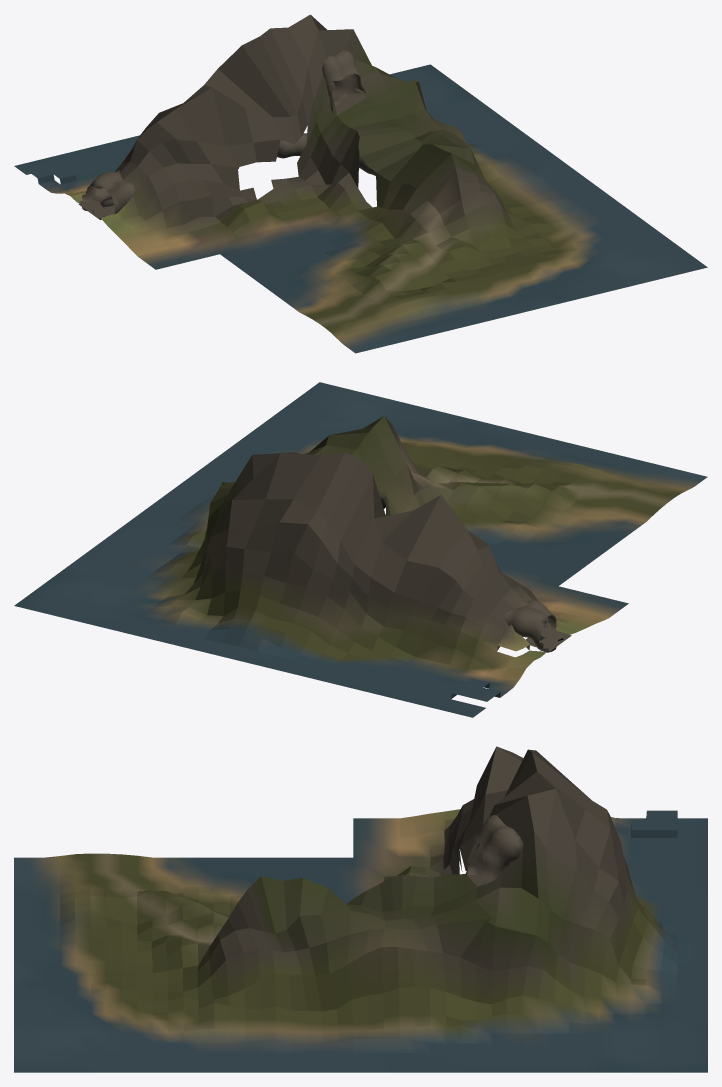
Rendered from MAPA ESCALA Seccion 7 y 8.glb.
The picture shows the model from 3 angles, top to bottom: view 1: azimuth 30°, elevation 25°; view 2: azimuth 150°, elevation 25°; view 3: azimuth 270°, elevation 25°; orthographic projection. The views are drawn at different scales.
Visible parts, largest first — view 1: MAPA 7 Y 8, Mball.074; view 2: MAPA 7 Y 8, Mball.074; view 3: MAPA 7 Y 8, Mball.074.
Part boxes in pixels (left/top/right/bottom): MAPA 7 Y 8: left=14, top=14, right=707, bottom=353; Mball.074: left=80, top=49, right=375, bottom=219; MAPA 7 Y 8: left=14, top=382, right=707, bottom=717; Mball.074: left=380, top=496, right=563, bottom=652; MAPA 7 Y 8: left=14, top=746, right=707, bottom=1072; Mball.074: left=467, top=815, right=523, bottom=885.
Size of the model in its own units: 48.51 by 16.58 by 55.56.
